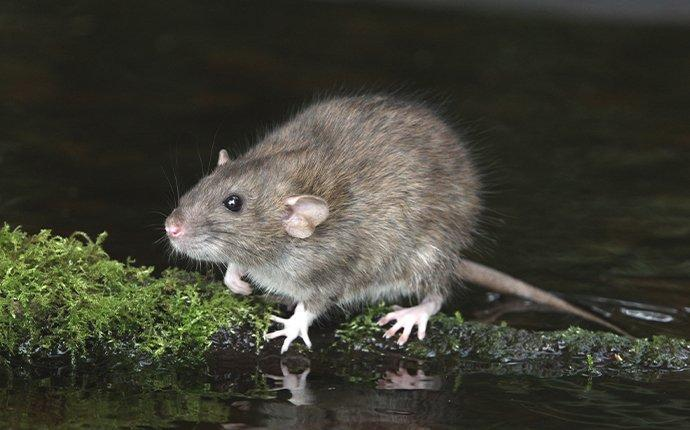rat: (166, 96, 627, 354)
